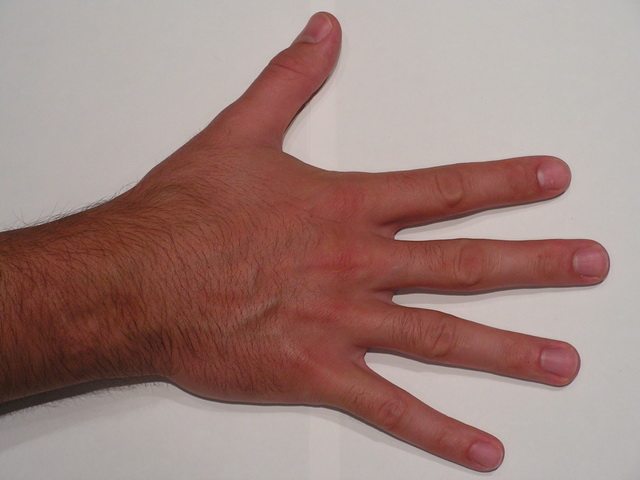finger: (336, 361, 515, 480), (352, 306, 587, 387), (380, 145, 573, 234), (378, 236, 611, 294)
